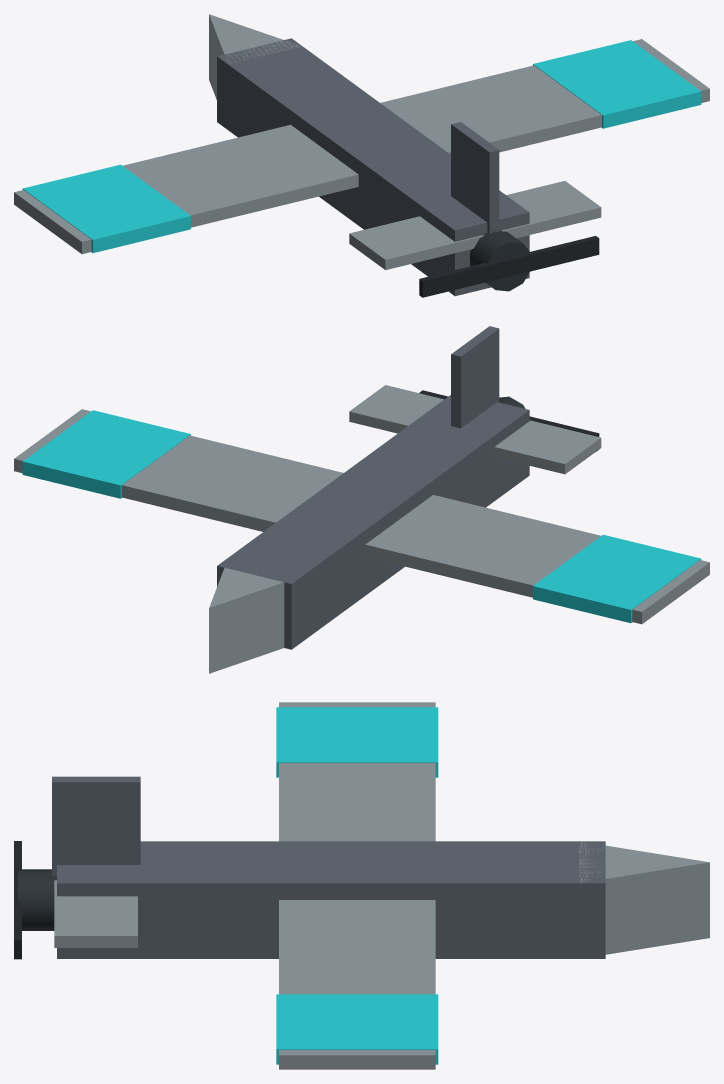
The model's file is drone_wing.glb.
3 renders of one model, top to bottom at view 1: azimuth 30°, elevation 25°; view 2: azimuth 150°, elevation 25°; view 3: azimuth 270°, elevation 25°, orthographic. The views are drawn at different scales.
Parts seen in each view (by area): view 1: Wing, Fuselage, WingStripeL, WingStripeR, Tailplane, Fin, RotorProp, Nose, Hub; view 2: Wing, Fuselage, WingStripeL, WingStripeR, Tailplane, Nose, Fin; view 3: Fuselage, Wing, Nose, WingStripeL, WingStripeR, Fin, Tailplane, Hub, RotorProp.
Boxes of the visible parts, <box> form: Wing: <box>14,39,709,254</box>; Fuselage: <box>217,38,529,296</box>; WingStripeL: <box>22,164,190,252</box>; WingStripeR: <box>533,40,701,128</box>; Tailplane: <box>349,181,601,270</box>; Fin: <box>451,122,499,233</box>; RotorProp: <box>419,236,599,297</box>; Nose: <box>209,14,302,99</box>; Hub: <box>470,230,530,291</box>; Wing: <box>14,409,709,624</box>; Fuselage: <box>217,395,529,649</box>; WingStripeL: <box>533,534,701,623</box>; WingStripeR: <box>22,410,190,498</box>; Tailplane: <box>349,385,601,474</box>; Nose: <box>209,567,284,673</box>; Fin: <box>451,326,499,428</box>; Fuselage: <box>57,841,605,958</box>; Wing: <box>279,702,435,1069</box>; Nose: <box>579,841,709,954</box>; WingStripeL: <box>276,707,438,777</box>; WingStripeR: <box>276,994,438,1064</box>; Fin: <box>52,776,140,876</box>; Tailplane: <box>54,880,137,947</box>; Hub: <box>18,869,56,930</box>; RotorProp: <box>14,841,21,959</box>.
Bounding box in the file's own units: 3.2 × 0.67 × 2.67.
